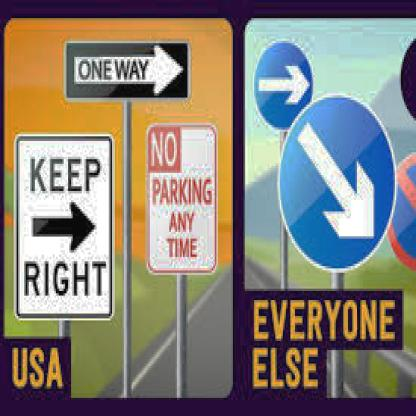Keep right: (276, 94, 394, 271)
